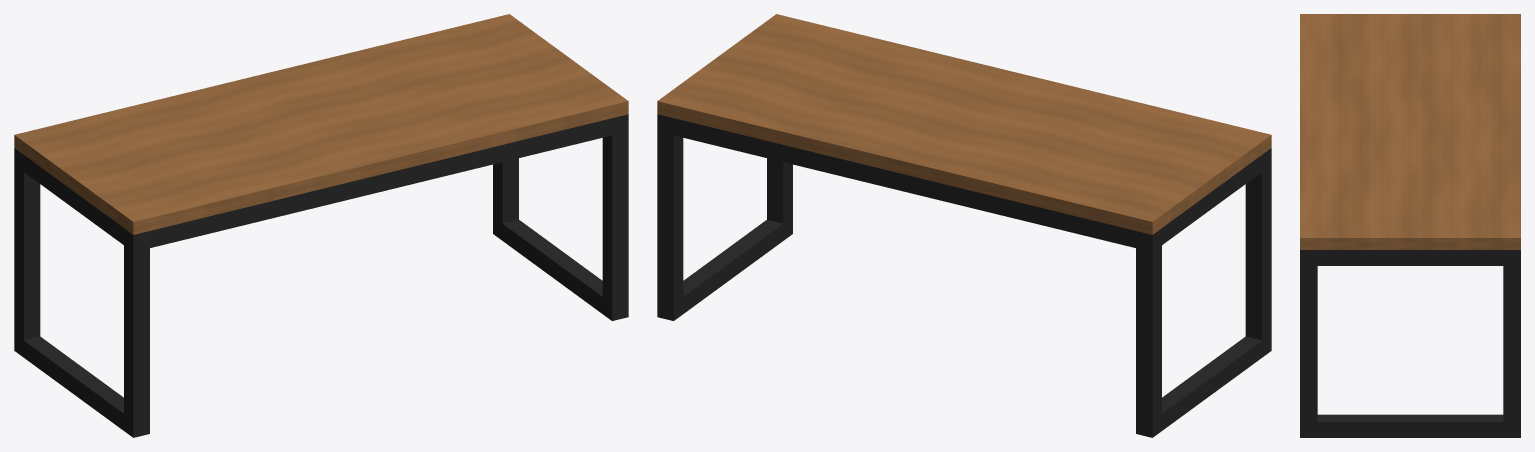
Rendered from mesa-living-nord-roble-negro-4cm.glb.
3 views of the same model, side by side, from view 1: azimuth 30°, elevation 25°; view 2: azimuth 150°, elevation 25°; view 3: azimuth 270°, elevation 25° (orthographic). The views are drawn at different scales.
Parts seen in each view (by area): view 1: Tapa de madera maciza 120 x 50 cm, Pata recta de hierro 4 x 4 cm (×4), Larguero longitudinal superior recto, Travesaño inferior recto (×2), Travesaño superior recto; view 2: Tapa de madera maciza 120 x 50 cm, Pata recta de hierro 4 x 4 cm (×4), Larguero longitudinal superior recto, Travesaño inferior recto (×2), Travesaño superior recto; view 3: Tapa de madera maciza 120 x 50 cm, Pata recta de hierro 4 x 4 cm (×2), Travesaño inferior recto, Travesaño superior recto.
Part boxes in pixels (x1,y1,x2,y2): Tapa de madera maciza 120 x 50 cm: [14, 14, 628, 234]; Pata recta de hierro 4 x 4 cm (×4): [14, 114, 628, 437]; Larguero longitudinal superior recto: [150, 118, 612, 247]; Travesaño inferior recto (×2): [19, 219, 602, 430]; Travesaño superior recto: [19, 153, 128, 247]; Tapa de madera maciza 120 x 50 cm: [657, 14, 1271, 234]; Pata recta de hierro 4 x 4 cm (×4): [657, 114, 1271, 437]; Larguero longitudinal superior recto: [673, 118, 1135, 247]; Travesaño inferior recto (×2): [679, 219, 1266, 430]; Travesaño superior recto: [1162, 154, 1266, 244]; Tapa de madera maciza 120 x 50 cm: [1300, 14, 1520, 249]; Pata recta de hierro 4 x 4 cm (×2): [1300, 250, 1520, 437]; Travesaño inferior recto: [1309, 414, 1511, 437]; Travesaño superior recto: [1309, 250, 1511, 265].
Bounding box in the file's own units: 1.2 × 0.5 × 0.5.
2 materials, 1 textured.
